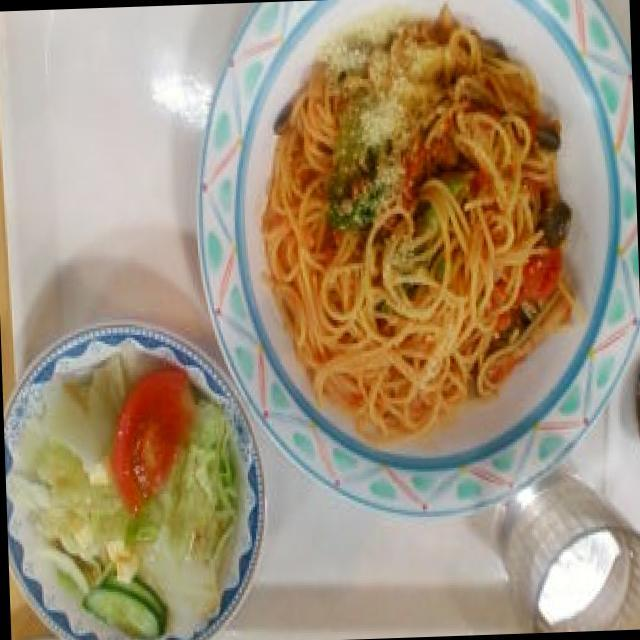Green Salad: (13, 354, 243, 640)
Pasta: (249, 17, 586, 463)
